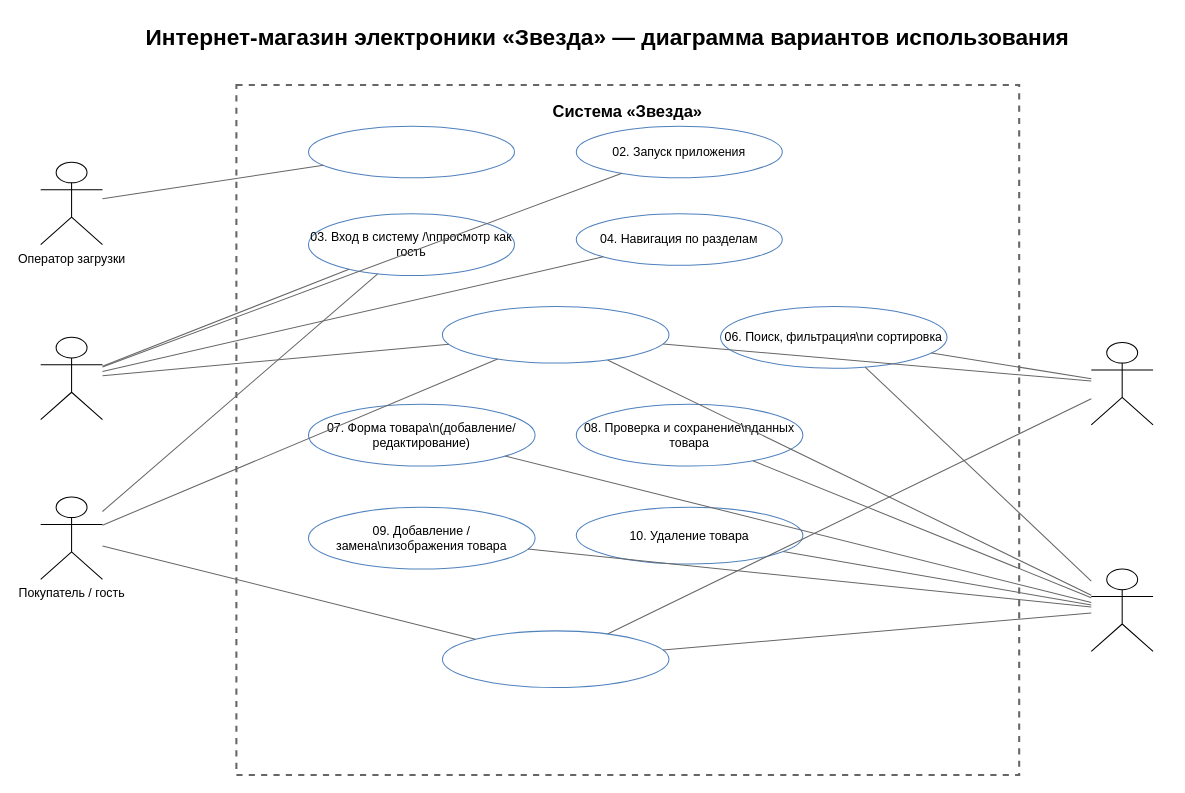
This 1185x793 diagram has some shape labels left out. Each missing label, with the centre of its shape:
"01. Импорт данных" belongs at (410,151).
"05. Каталог электроники" belongs at (555,334).
"11. Сообщения о результате" belongs at (555,659).
"Администратор" belongs at (1121,609).
"Менеджер" belongs at (1121,383).
"Пользователь" belongs at (71,378).
